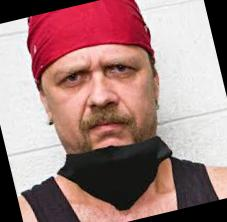mask_weared_incorrect: (44, 50, 170, 179)
